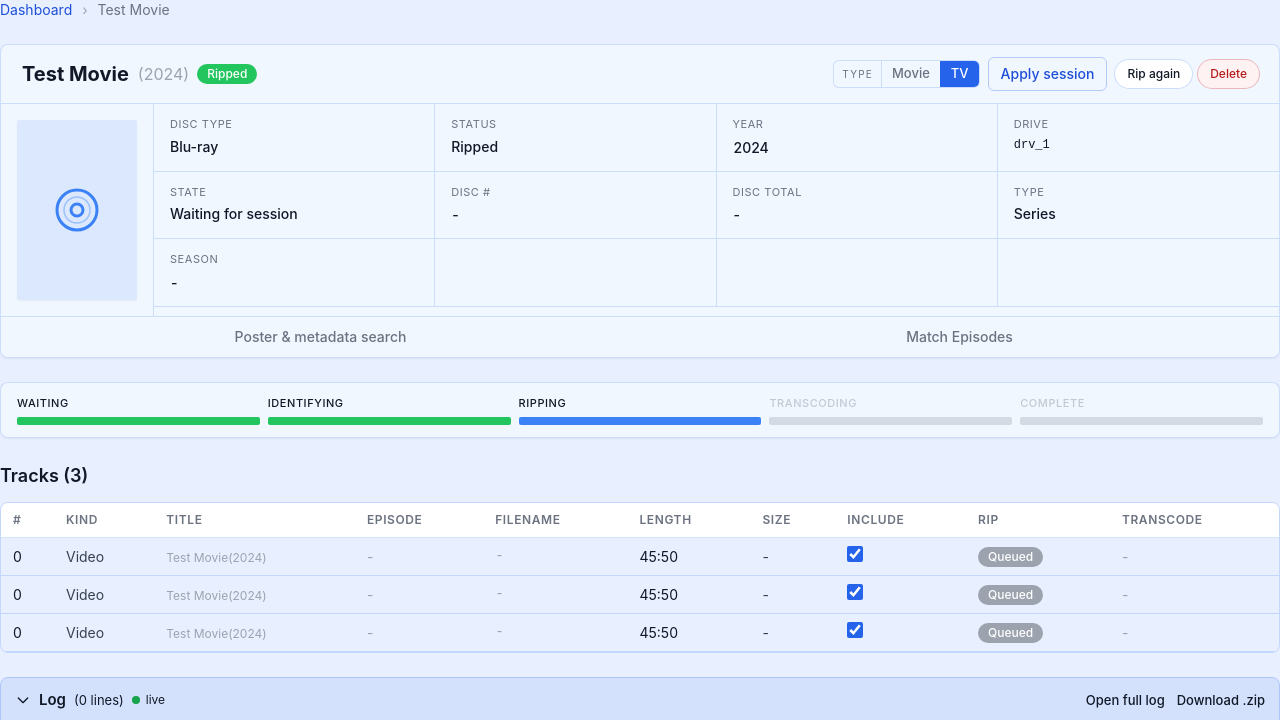
Test: Job detail page (v3) › TV episode matching › pluralises the confirm message for several hand-set tracks
This screenshot has width=1280, height=720.
Click the radio button labelled "Movie". click: [911, 74]
box: [882, 61, 940, 87]
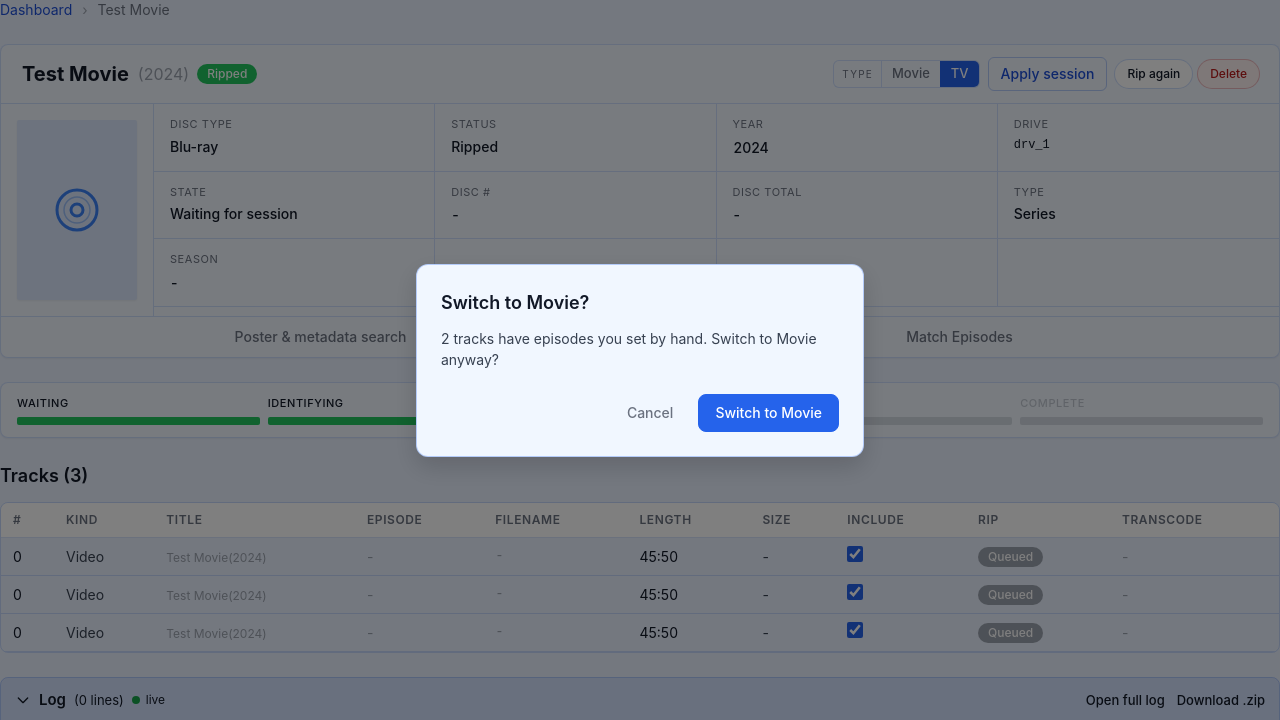
Now the text "2 tracks have episodes you set by hand. Switch to Movie anyway?" is shown, box [441, 328, 839, 370]
